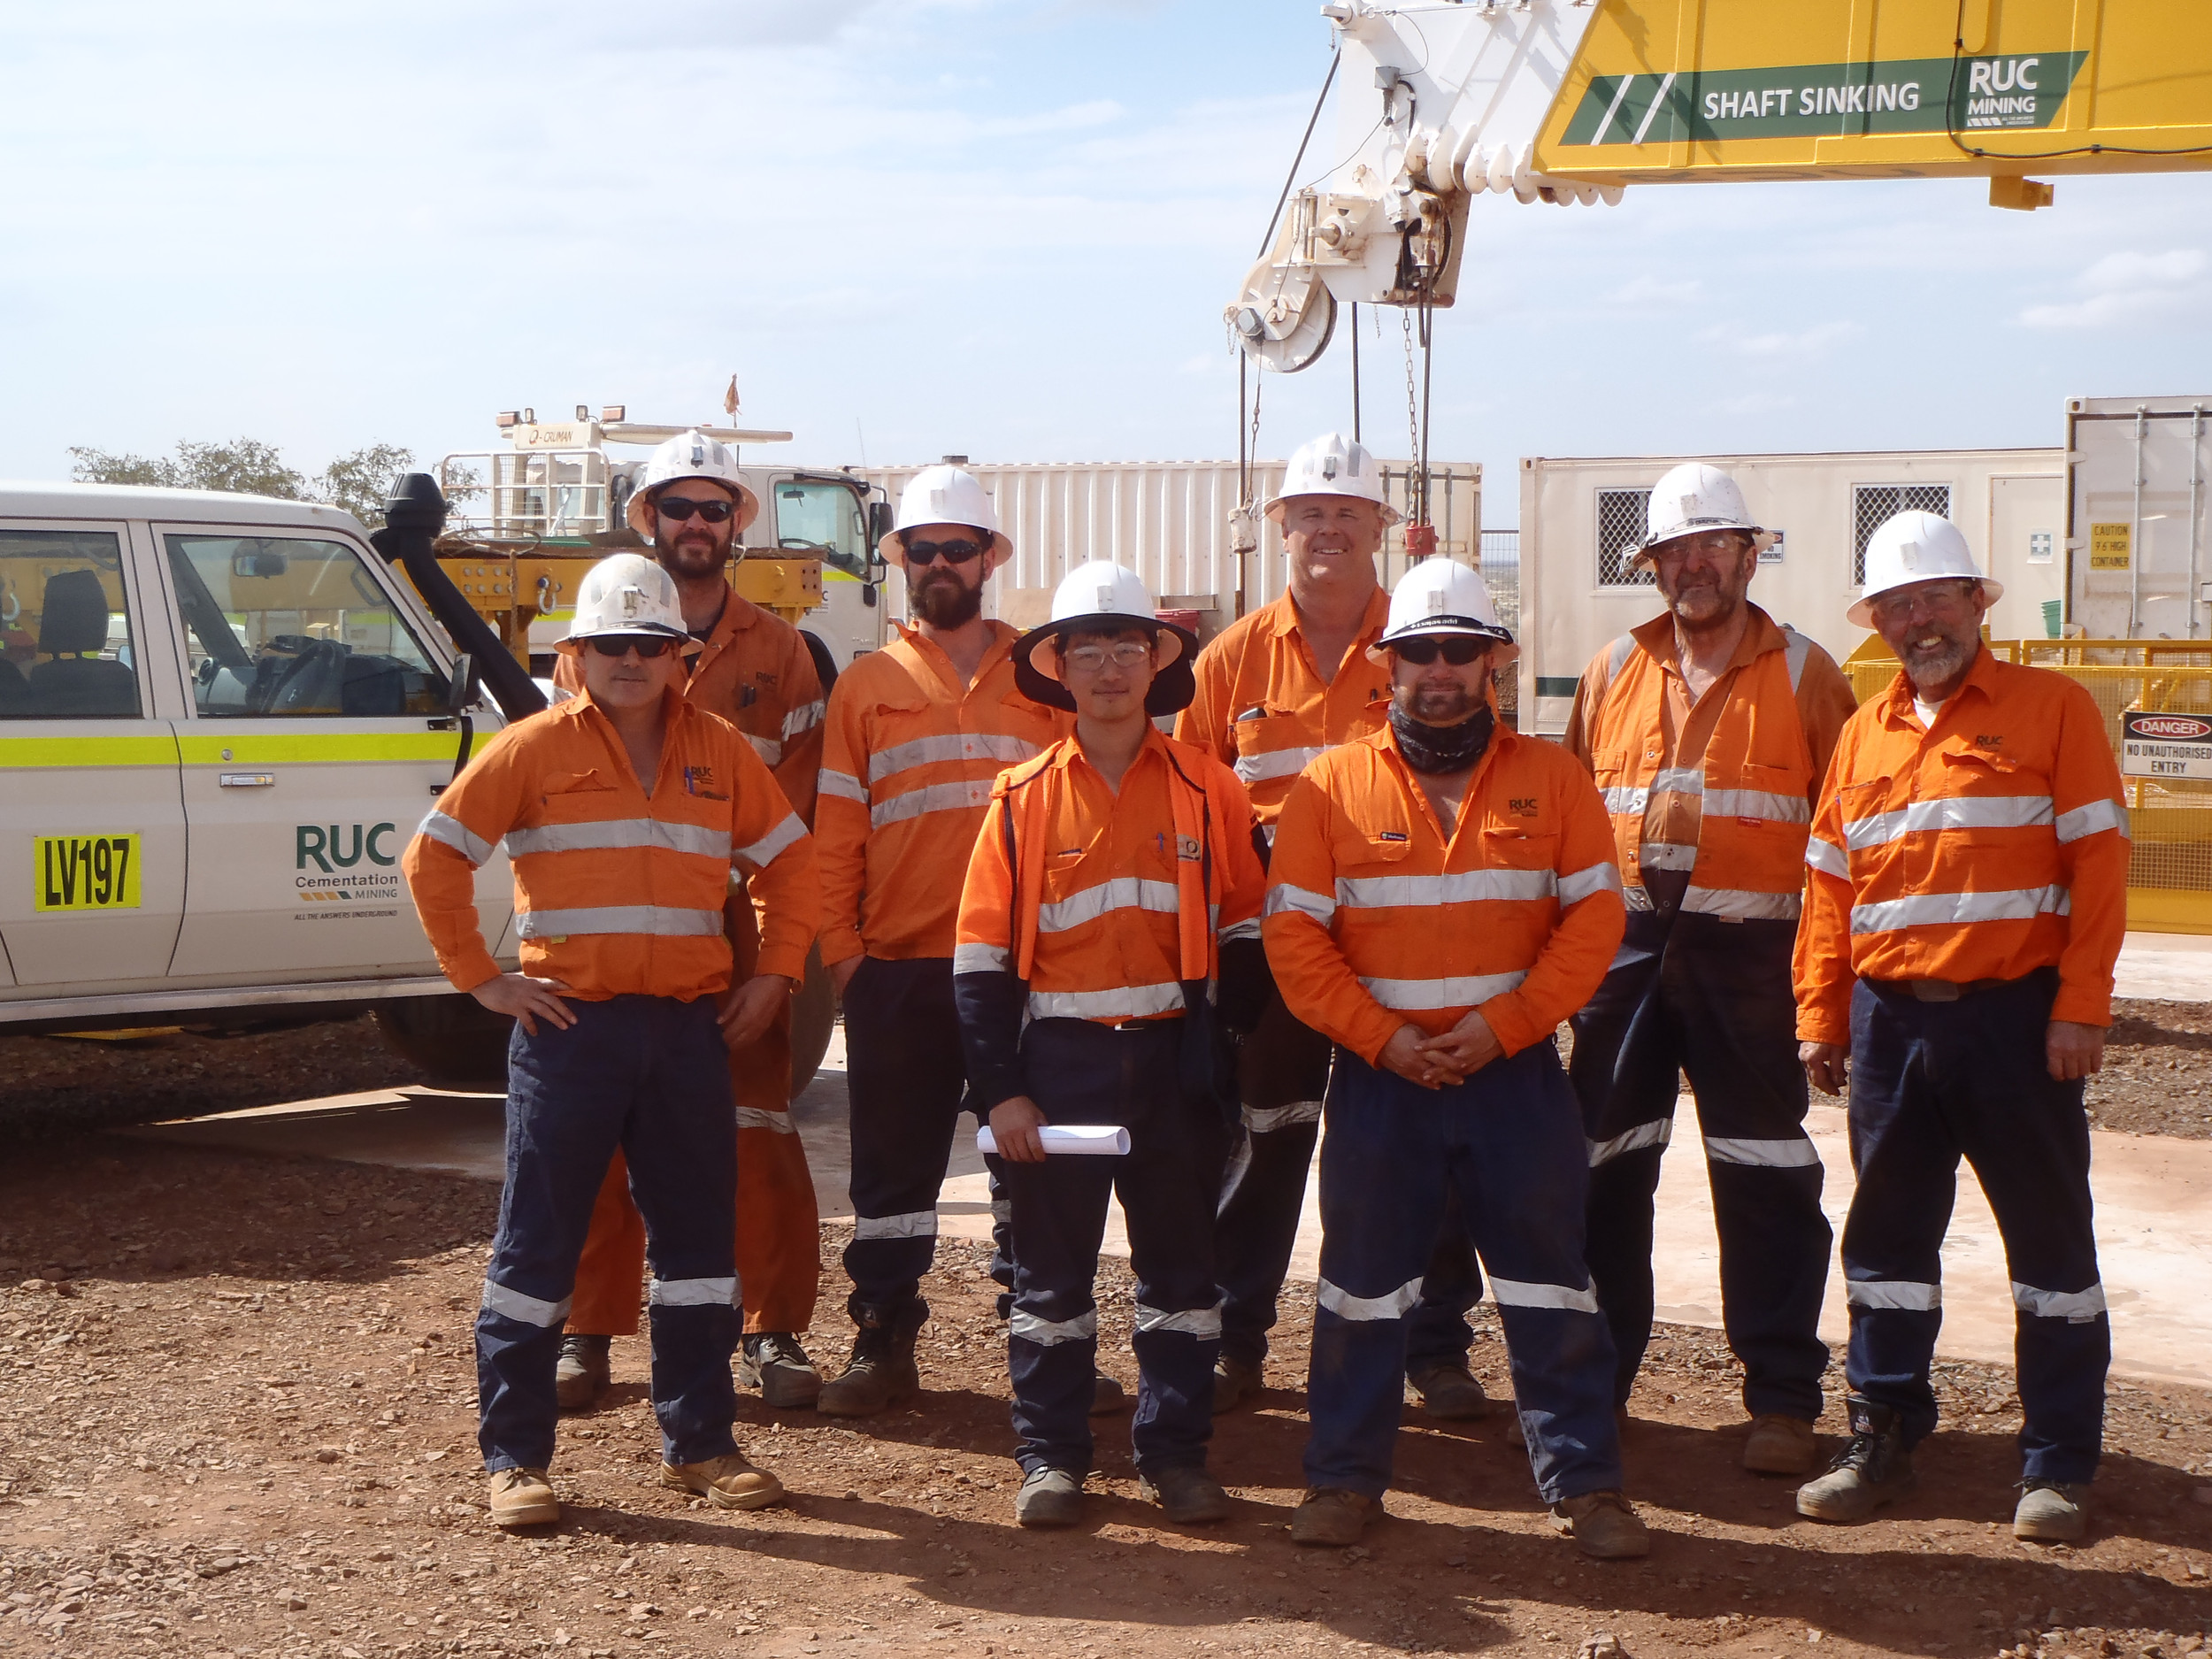Helmet: (1834, 500, 2015, 699), (1012, 545, 1204, 721), (1369, 559, 1524, 755), (857, 464, 1026, 636), (1618, 462, 1784, 638), (1264, 429, 1413, 606), (620, 423, 772, 591), (561, 556, 702, 713)
Reflective vest: (1777, 647, 2141, 1122), (401, 695, 826, 1054), (1266, 730, 1639, 1110), (953, 744, 1284, 1162), (813, 627, 1085, 986), (1576, 615, 1834, 948), (1184, 599, 1416, 938)
